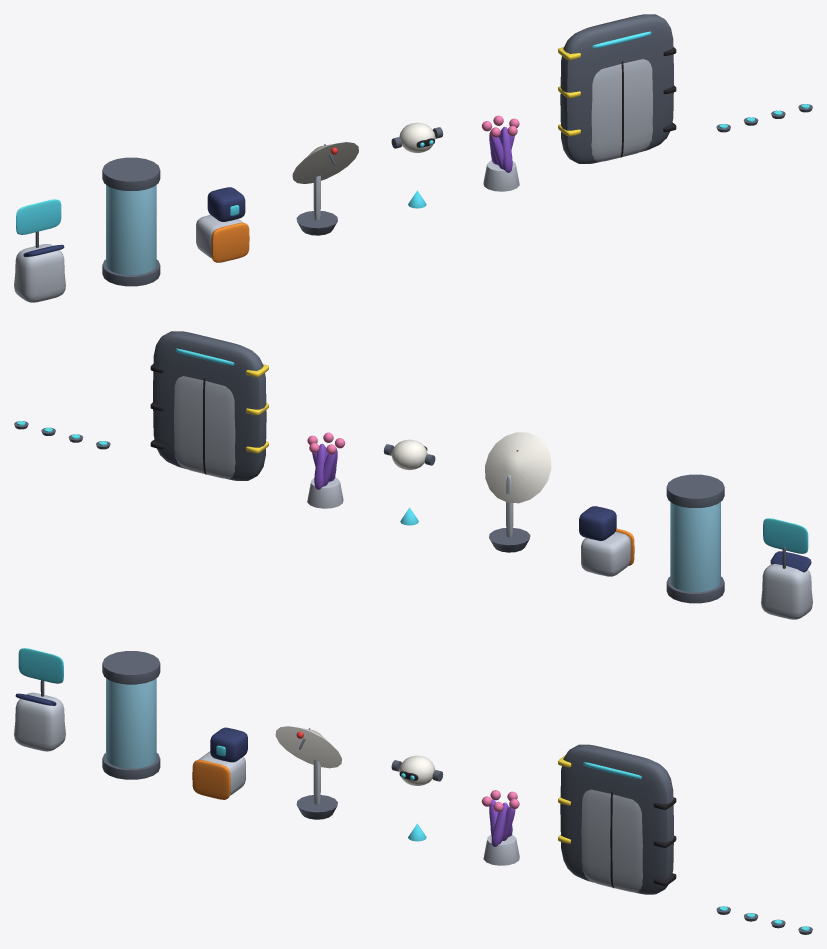
File: Deco_Codigo.fbx
3 renders of one model, top to bottom at view 1: azimuth 30°, elevation 25°; view 2: azimuth 150°, elevation 25°; view 3: azimuth 330°, elevation 25°, orthographic.
Visible parts, largest first — view 1: Compuerta, Capsula_Brillo, CajasCarga, Antena, Terminal, Capsula, PlantaAlien, Terminal_Brillo, Dron; view 2: Compuerta, Antena, Capsula_Brillo, CajasCarga, Terminal, Capsula, PlantaAlien, Terminal_Brillo, Dron; view 3: Compuerta, Capsula_Brillo, CajasCarga, Antena, Terminal, Capsula, PlantaAlien, Terminal_Brillo, Dron.
Boxes of the visible parts, box(x1,y1,x2,y2) form: Compuerta: box(558, 14, 676, 163); Capsula_Brillo: box(106, 185, 156, 275); CajasCarga: box(196, 187, 249, 262); Antena: box(292, 142, 358, 235); Terminal: box(14, 231, 65, 302); Capsula: box(102, 157, 160, 286); PlantaAlien: box(483, 126, 519, 191); Terminal_Brillo: box(16, 199, 61, 234); Dron: box(391, 122, 443, 153); Compuerta: box(150, 331, 268, 480); Antena: box(485, 432, 551, 552); Capsula_Brillo: box(670, 502, 720, 592); CajasCarga: box(579, 506, 634, 576); Terminal: box(761, 546, 812, 619); Capsula: box(666, 474, 724, 603); PlantaAlien: box(307, 443, 343, 508); Terminal_Brillo: box(763, 518, 808, 553); Dron: box(383, 439, 435, 470); Compuerta: box(558, 744, 676, 894); Capsula_Brillo: box(106, 678, 156, 768); CajasCarga: box(192, 727, 247, 799); Antena: box(275, 726, 341, 819); Terminal: box(14, 680, 65, 751); Capsula: box(102, 651, 160, 779); PlantaAlien: box(483, 799, 519, 865); Terminal_Brillo: box(18, 648, 63, 683); Dron: box(391, 755, 443, 785).
Bounding box in the file's own units: 17.47 × 2.81 × 1.27.
Materials: 2 (2 with a texture image).
